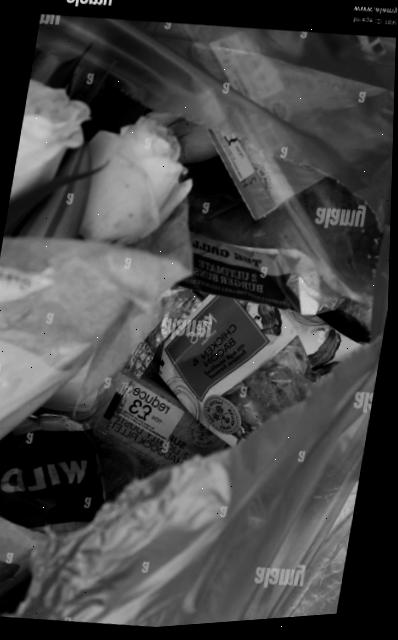Garbage: (0, 18, 396, 629)
